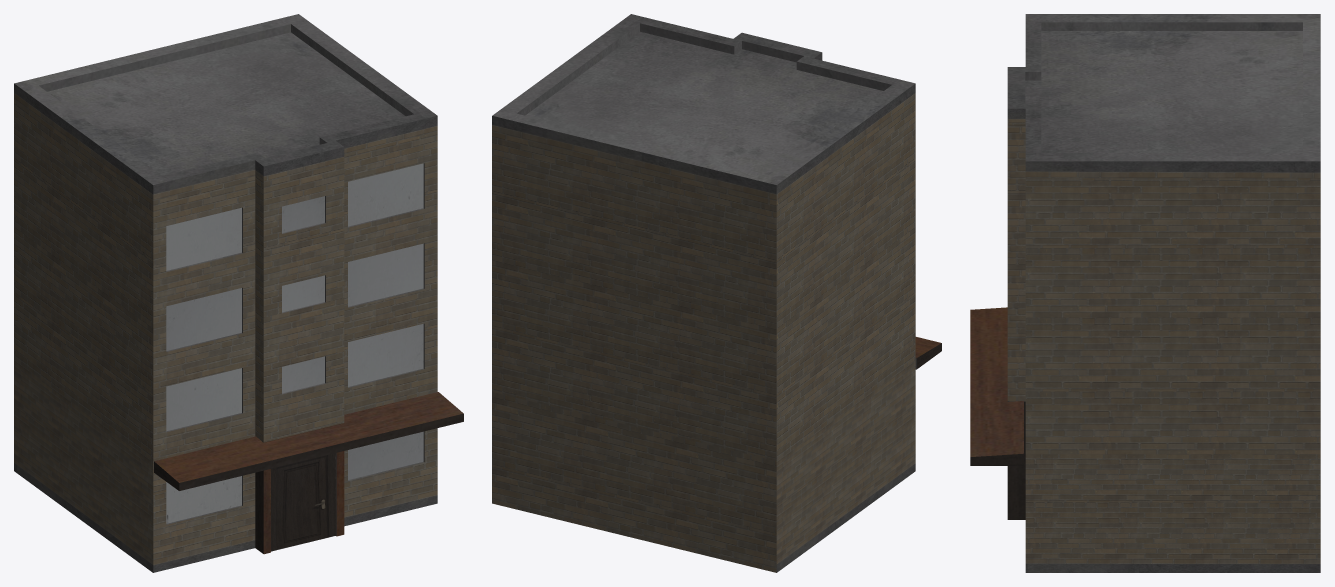
The model's file is TSBrickBuildingWoodenDoor.fbx.
The picture shows the model from 3 angles, left to right: view 1: azimuth 30°, elevation 25°; view 2: azimuth 150°, elevation 25°; view 3: azimuth 270°, elevation 25°; orthographic projection. The views are drawn at different scales.
Visible parts, largest first — view 1: Building Sky_small_color01; view 2: Building Sky_small_color01; view 3: Building Sky_small_color01.
Boxes of the visible parts, x1=… form: Building Sky_small_color01: x1=14, y1=14, x2=463, y2=572; Building Sky_small_color01: x1=492, y1=14, x2=941, y2=572; Building Sky_small_color01: x1=970, y1=14, x2=1320, y2=572.
Bounding box in the file's own units: 1300 × 1693 × 1307.
1 material, 1 textured.
